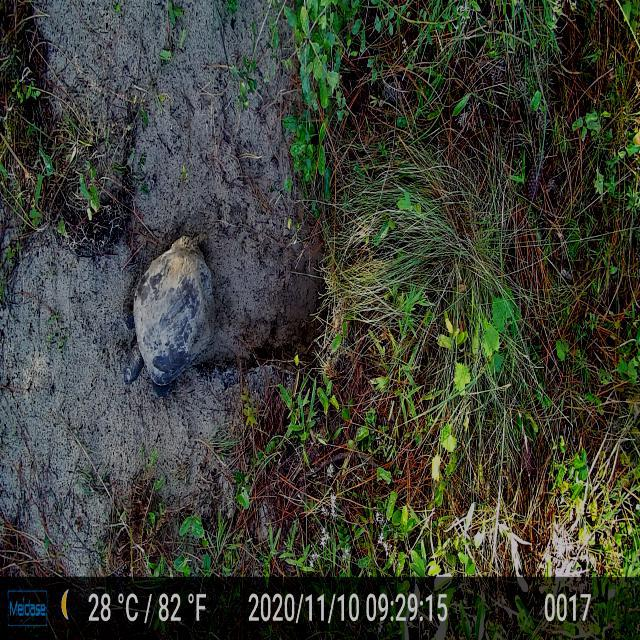tortoise: (124, 232, 214, 406)
